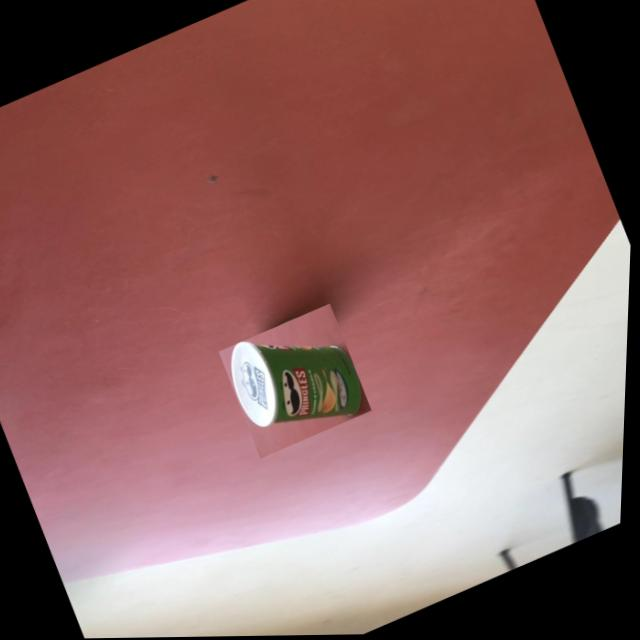a pringles: (218, 303, 378, 460)
